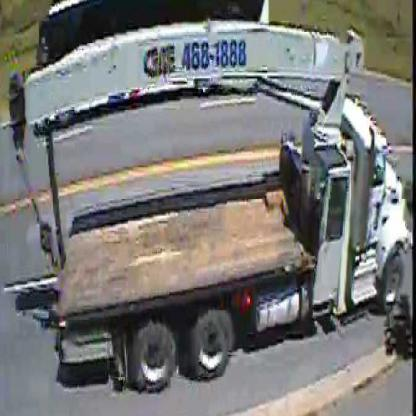container: (39, 108, 412, 382)
